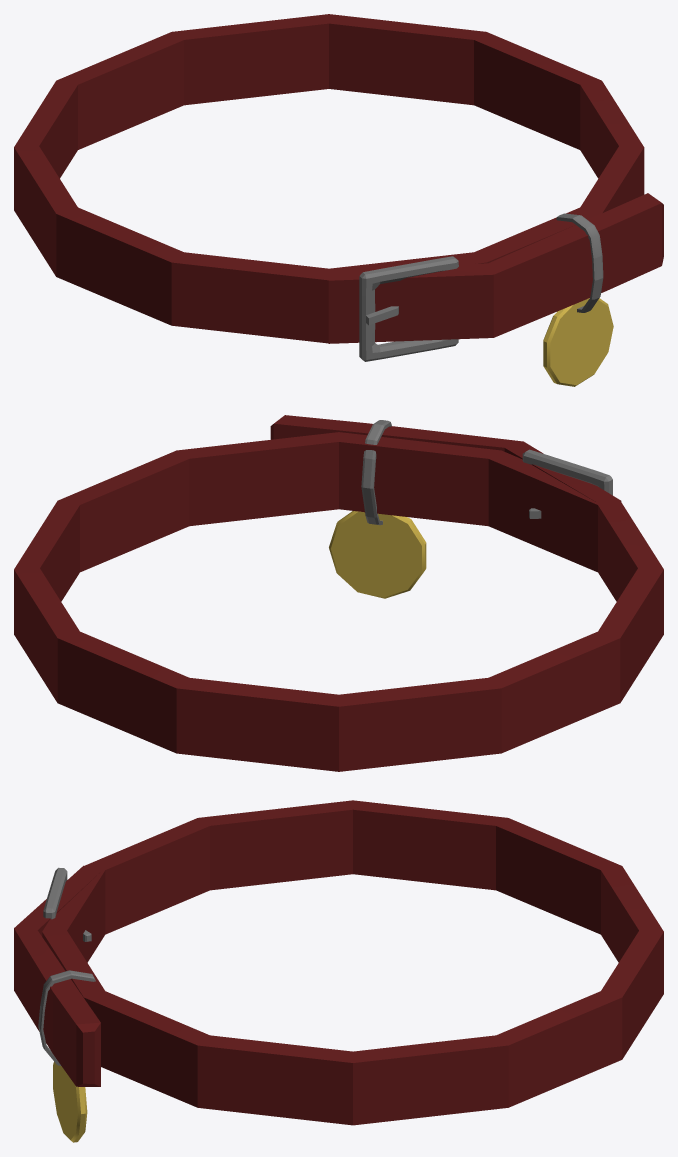
Rendered from DogCollar.fbx.
The picture shows the model from 3 angles, top to bottom: view 1: azimuth 30°, elevation 25°; view 2: azimuth 150°, elevation 25°; view 3: azimuth 270°, elevation 25°; orthographic projection. The views are drawn at different scales.
Parts seen in each view (by area): view 1: DogCollar; view 2: DogCollar; view 3: DogCollar.
Part boxes in pixels (x1,y1,x2,y2): DogCollar: (14, 14, 663, 386); DogCollar: (14, 415, 663, 771); DogCollar: (14, 800, 663, 1142).
Size of the model in its own units: 3.18 by 0.9323 by 3.32.
